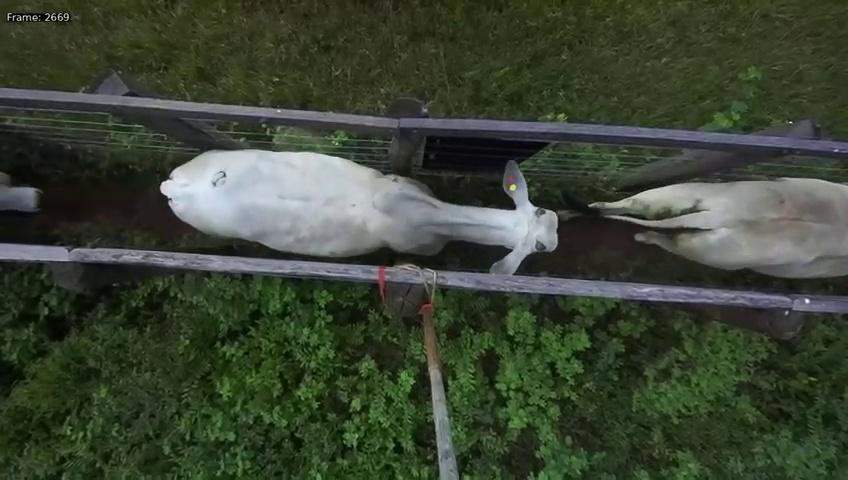cattle: (155, 127, 560, 274)
